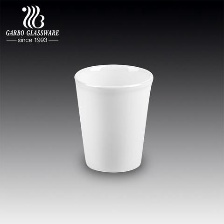glass: (70, 59, 161, 180)
